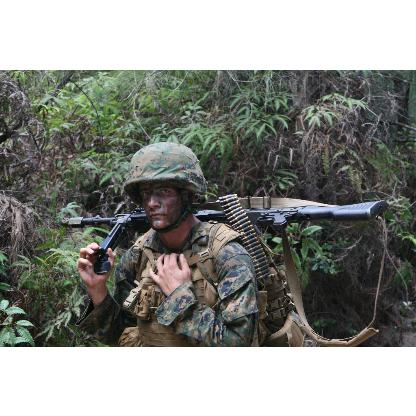gun: (60, 199, 388, 274)
